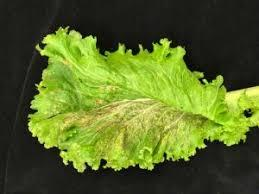Bok-Choy-Diseased: (70, 76, 202, 145)
